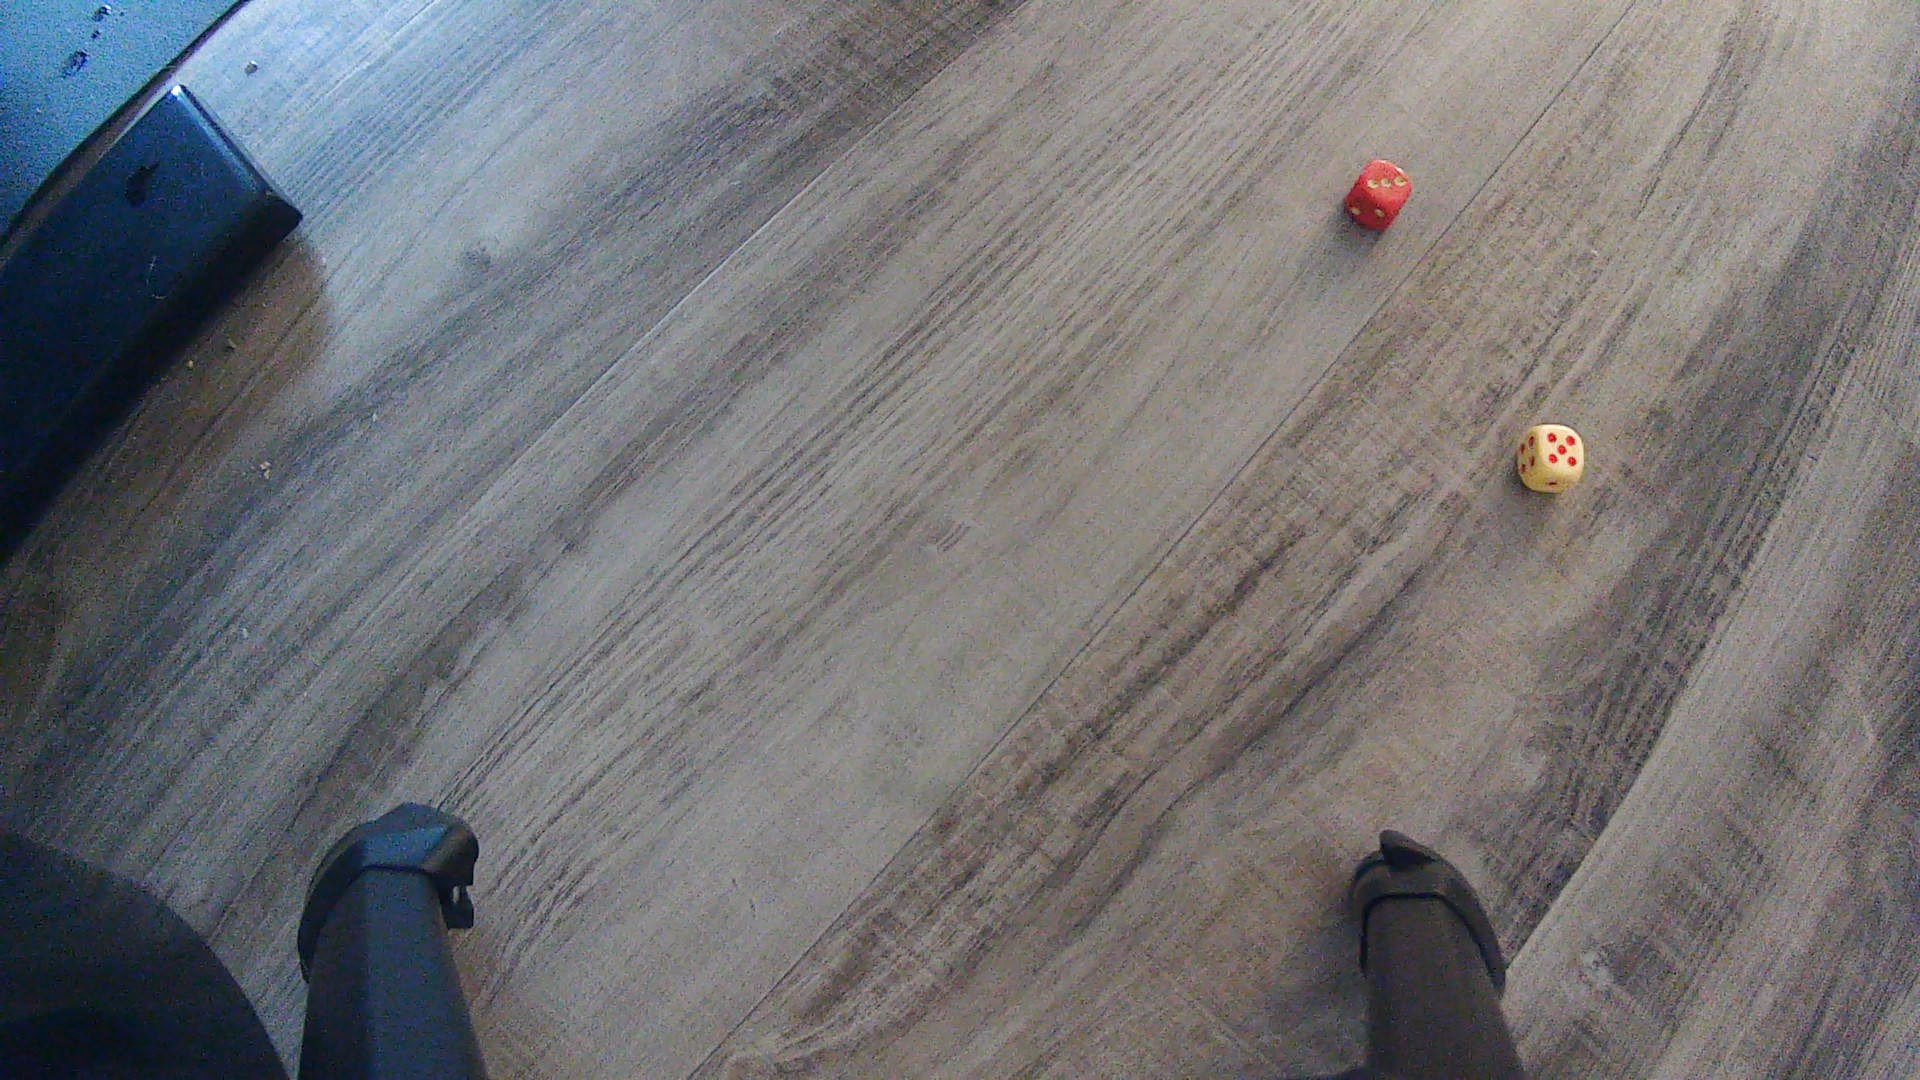die: (1514, 423, 1585, 496), (1342, 158, 1411, 233)
